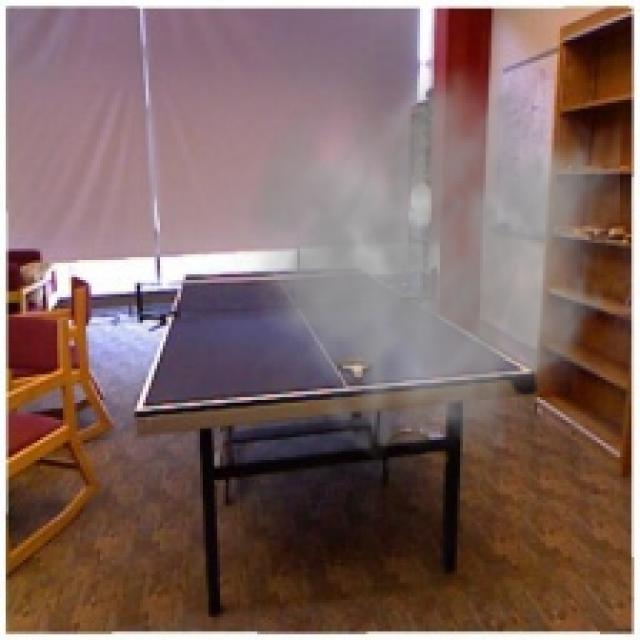smoke: (217, 57, 620, 463)
